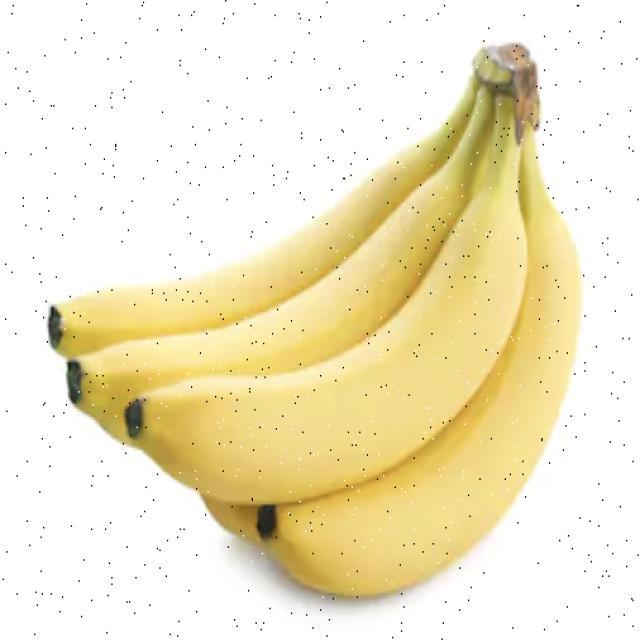Banana: (46, 41, 582, 598)
